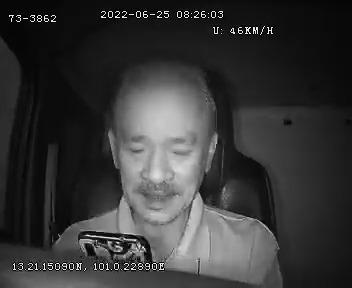PhoneUse: (71, 225, 159, 277)
